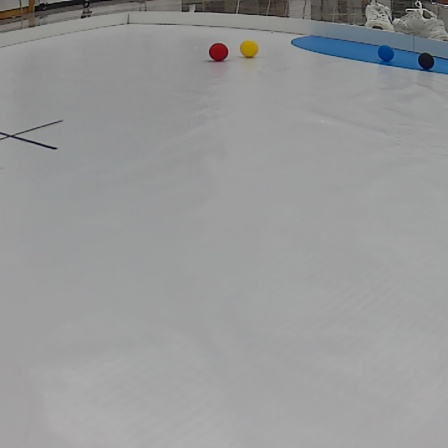black: (417, 51, 435, 74)
blue: (379, 45, 395, 61)
blue_base: (286, 32, 448, 74)
red: (208, 40, 228, 61)
yellow: (238, 39, 260, 58)
